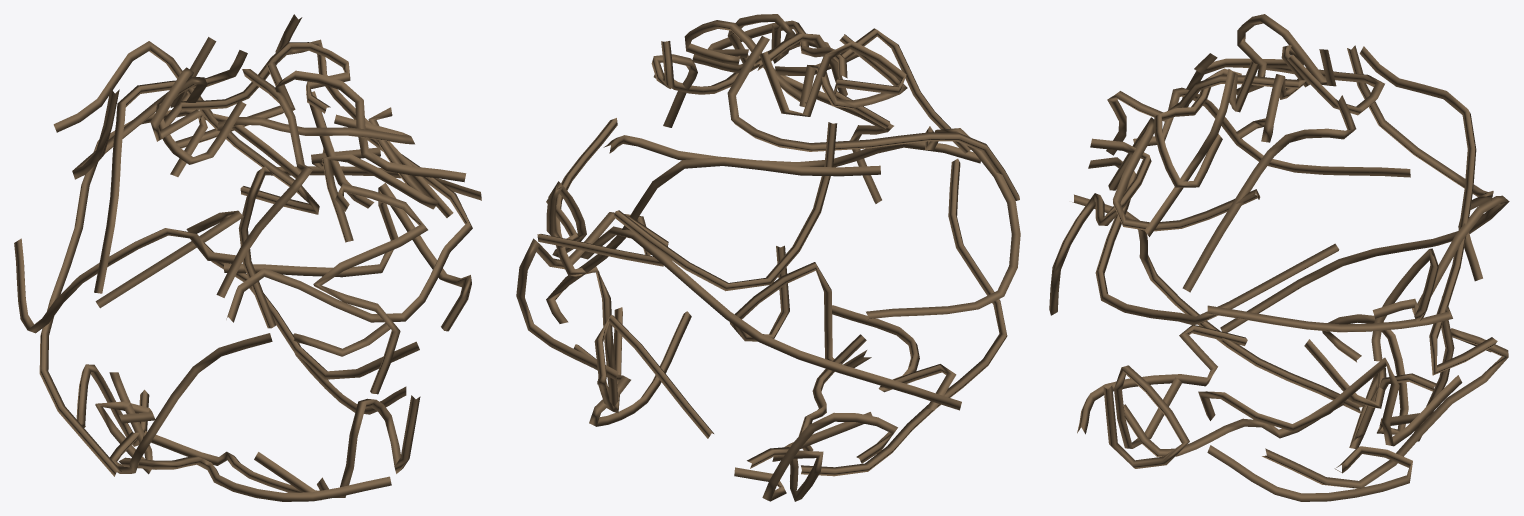
File: tumbleweed.glb
3 views of the same model, side by side, from view 1: azimuth 30°, elevation 25°; view 2: azimuth 150°, elevation 25°; view 3: azimuth 270°, elevation 25° (orthographic).
Visible parts, largest first — view 1: Moving; view 2: Moving; view 3: Moving.
Part boxes in pixels (x1=…): Moving: x1=14, y1=14, x2=481, y2=501; Moving: x1=516, y1=14, x2=1020, y2=501; Moving: x1=1049, y1=14, x2=1509, y2=501.
Bounding box in the file's own units: 0.7558 × 0.7282 × 0.707.
